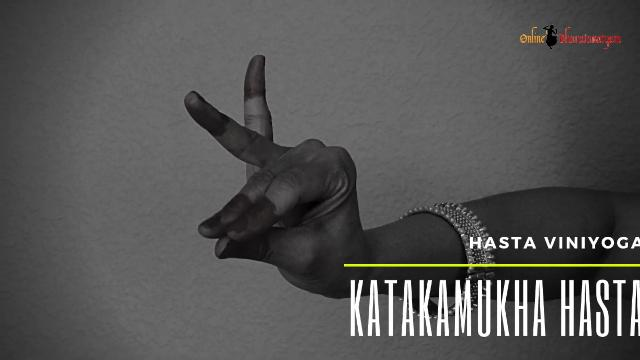katak: (148, 35, 414, 291)
